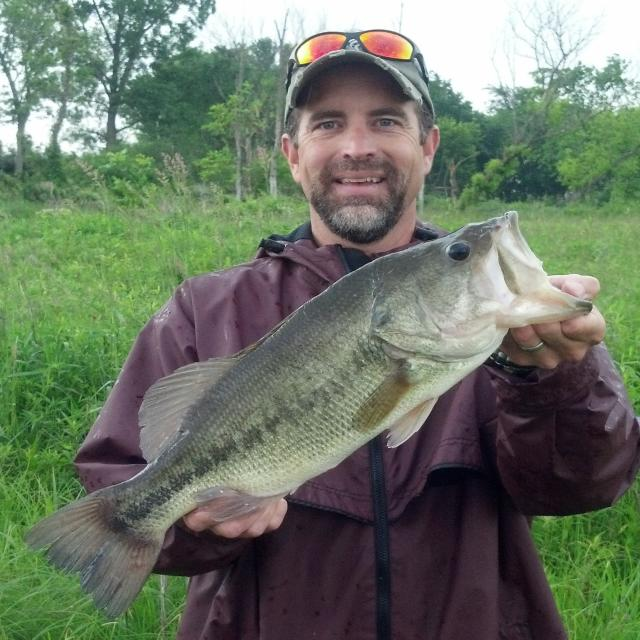Bass - Largemouth: (26, 211, 594, 617)
